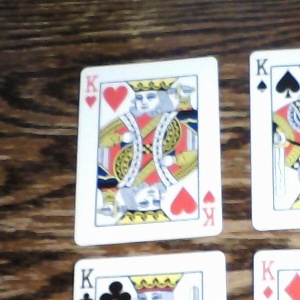card: (76, 54, 223, 246)
